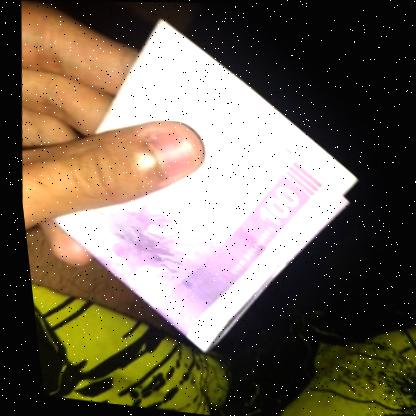one_hundred-front-vef: (0, 0, 386, 372)
